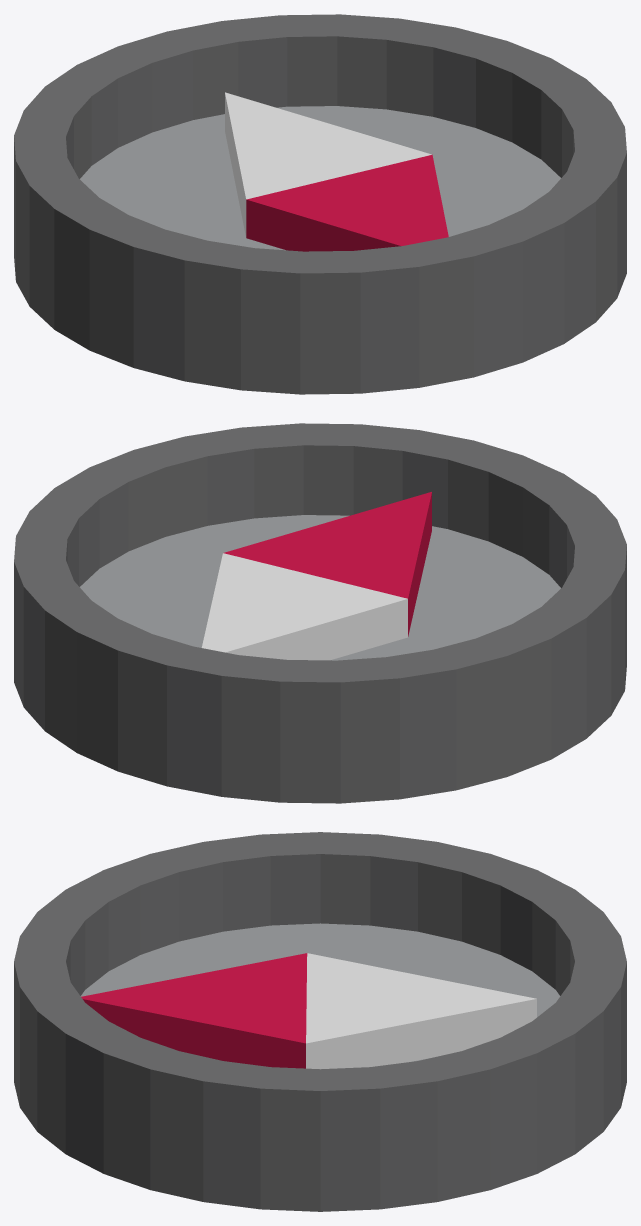
File: Compass1.fbx
3 views of the same model, one above another, from view 1: azimuth 30°, elevation 25°; view 2: azimuth 150°, elevation 25°; view 3: azimuth 270°, elevation 25° (orthographic).
Parts seen in each view (by area): view 1: Circle.001, compas_4.002; view 2: Circle.001, compas_4.002; view 3: Circle.001, compas_4.002.
Boxes of the visible parts, x1=… form: Circle.001: x1=14, y1=14, x2=626, y2=394; compas_4.002: x1=225, y1=92, x2=448, y2=251; Circle.001: x1=14, y1=423, x2=626, y2=803; compas_4.002: x1=201, y1=492, x2=431, y2=660; Circle.001: x1=14, y1=832, x2=626, y2=1211; compas_4.002: x1=81, y1=953, x2=536, y2=1069.
Size of the model in its own units: 75.87 by 16.5 by 75.87.
